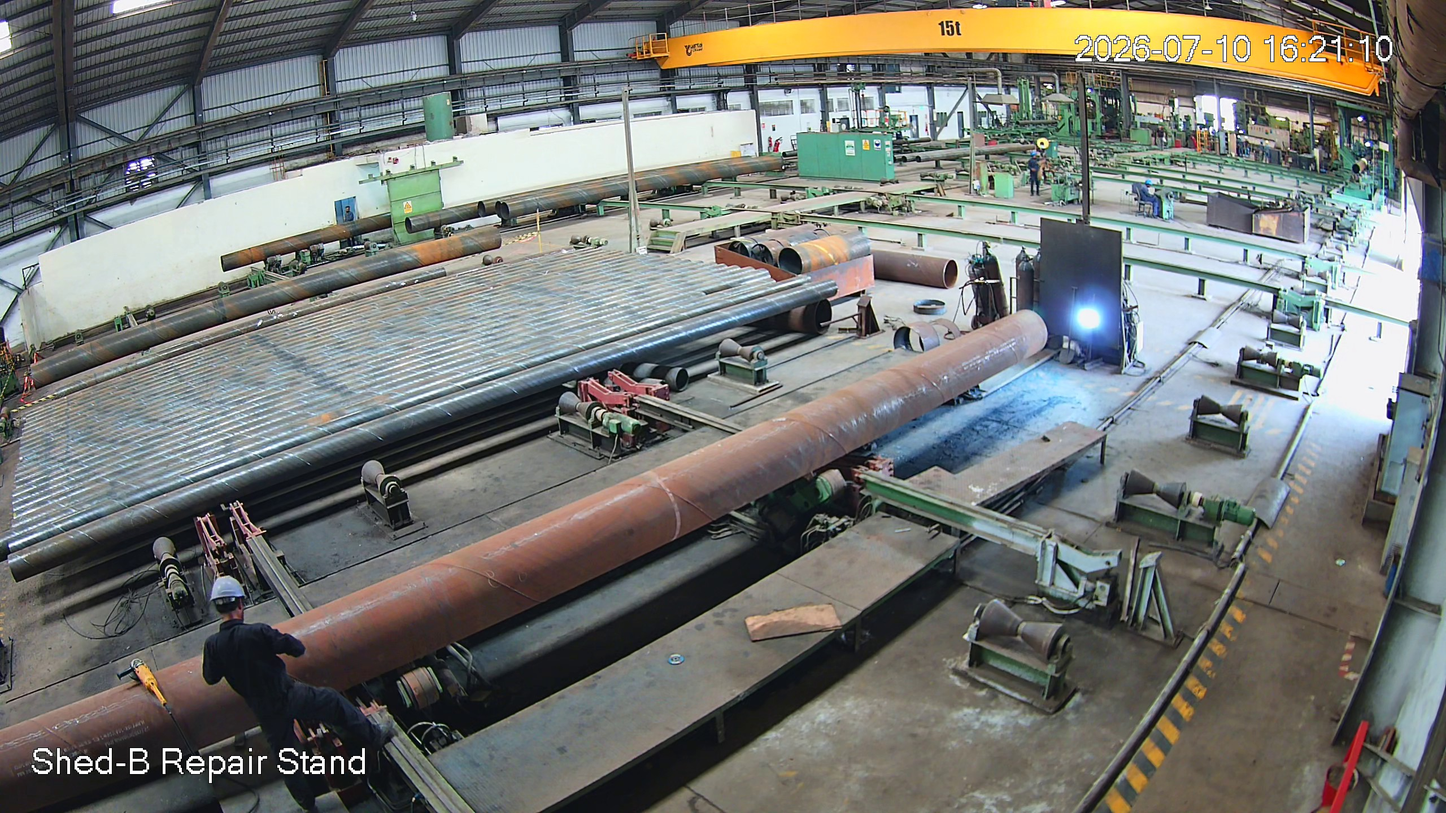Helmet: (204, 568, 276, 634)
Person: (198, 573, 346, 804)
